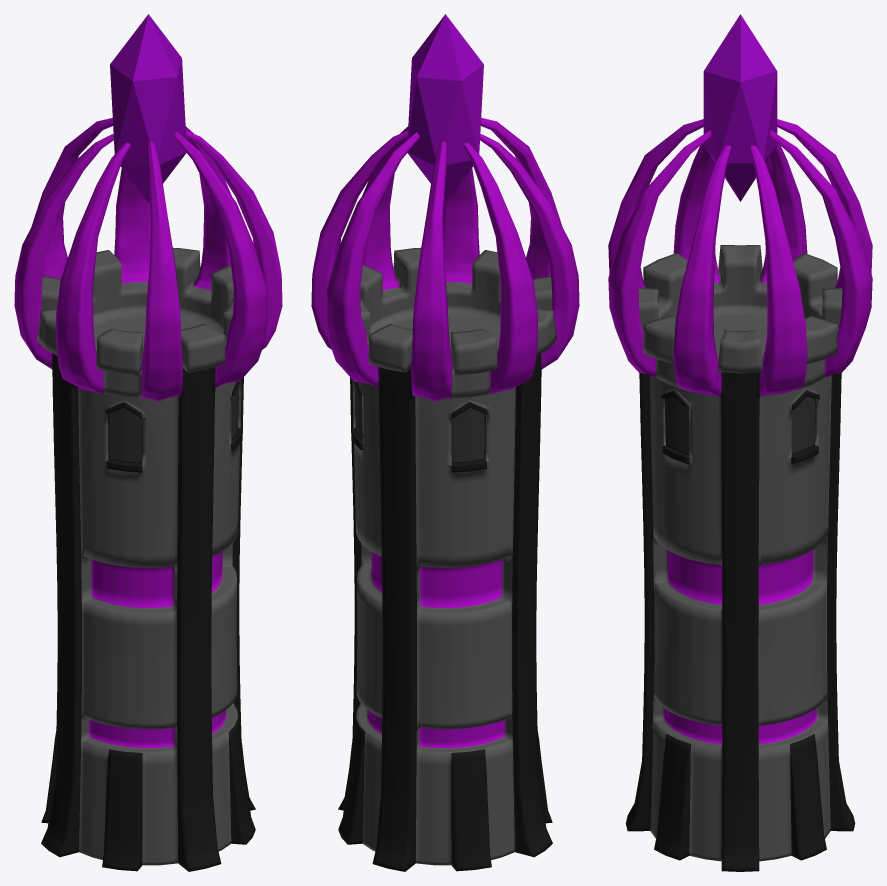
File: ThunderTower.fbx
The picture shows the model from 3 angles, left to right: view 1: azimuth 30°, elevation 25°; view 2: azimuth 150°, elevation 25°; view 3: azimuth 270°, elevation 25°; orthographic projection.
Parts seen in each view (by area): view 1: ThunderTower; view 2: ThunderTower; view 3: ThunderTower.
Boxes of the visible parts, x1,y1,x2,y2 form: ThunderTower: (14, 14, 282, 871); ThunderTower: (311, 14, 579, 871); ThunderTower: (608, 14, 872, 871).
Bounding box in the file's own units: 0.9248 × 3.3 × 0.976.
